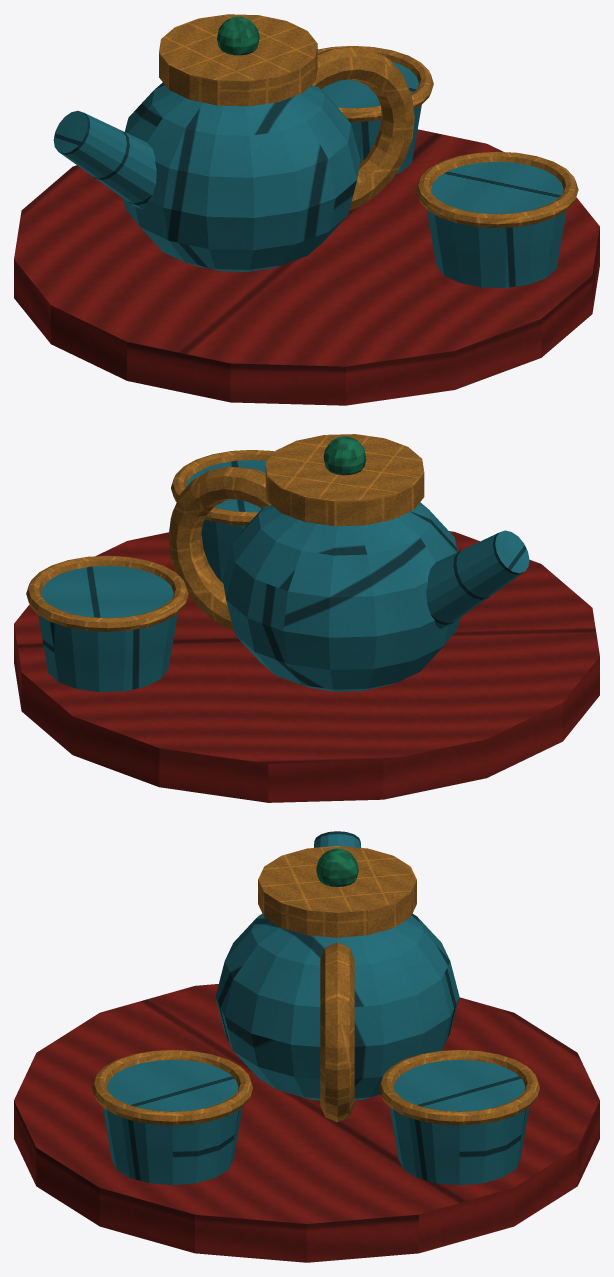
Rendered from tea_set.glb.
3 views of the same model, one above another, from view 1: azimuth 30°, elevation 25°; view 2: azimuth 150°, elevation 25°; view 3: azimuth 270°, elevation 25° (orthographic).
Visible parts, largest first — view 1: tea_set_Lacquer, tea_set_Ceramic, tea_set_Brass, tea_set_Jade; view 2: tea_set_Lacquer, tea_set_Ceramic, tea_set_Brass, tea_set_Jade; view 3: tea_set_Lacquer, tea_set_Ceramic, tea_set_Brass, tea_set_Jade.
Boxes of the visible parts, bbox=[...] form: tea_set_Lacquer: bbox=[14, 129, 599, 405]; tea_set_Ceramic: bbox=[53, 61, 566, 287]; tea_set_Brass: bbox=[159, 14, 578, 227]; tea_set_Jade: bbox=[217, 16, 259, 55]; tea_set_Lacquer: bbox=[14, 531, 599, 802]; tea_set_Ceramic: bbox=[38, 460, 529, 691]; tea_set_Brass: bbox=[26, 434, 424, 631]; tea_set_Jade: bbox=[323, 436, 366, 475]; tea_set_Lacquer: bbox=[14, 984, 599, 1262]; tea_set_Ceramic: bbox=[103, 831, 529, 1185]; tea_set_Brass: bbox=[92, 846, 539, 1125]; tea_set_Jade: bbox=[316, 848, 358, 886].
Bounding box in the file's own units: 0.96 × 0.475 × 0.96.
4 materials, 4 textured.
